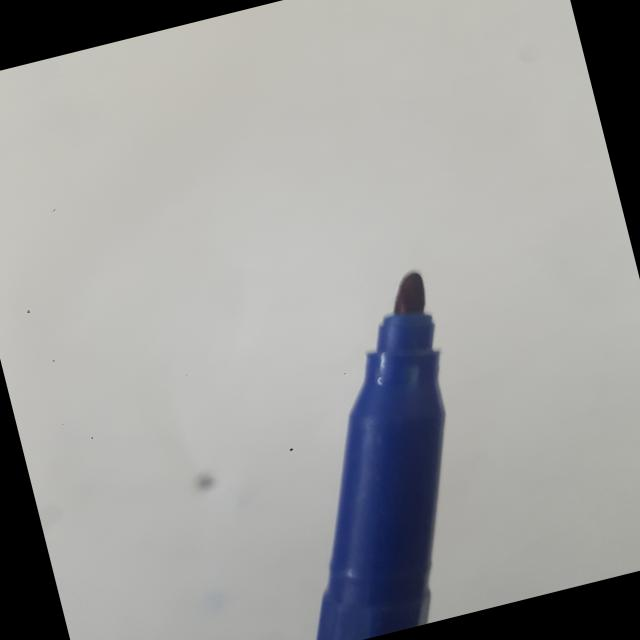general: (216, 265, 506, 640)
